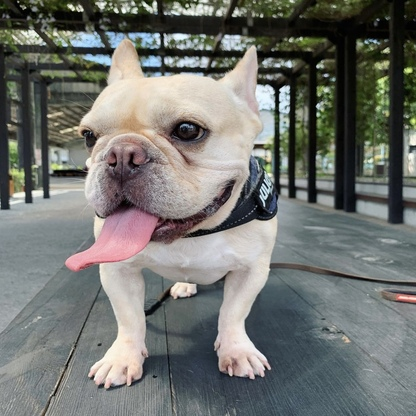bulldog: (62, 37, 288, 390)
